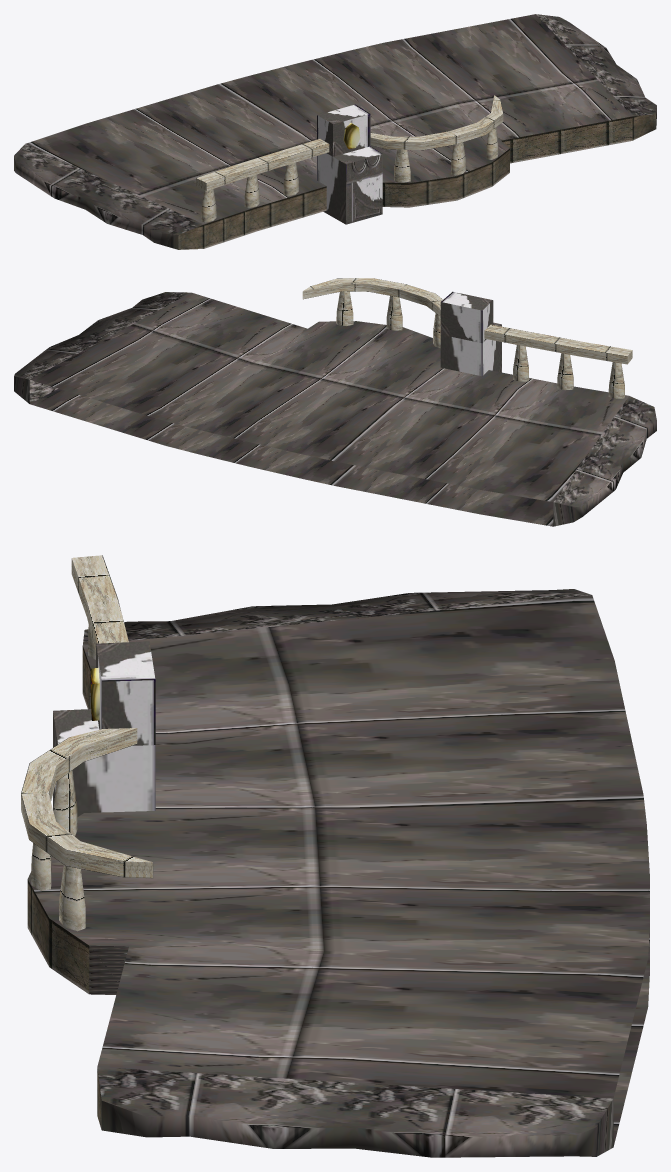
File: INST_SM_WALKWAYA.obj
3 renders of one model, top to bottom at view 1: azimuth 30°, elevation 25°; view 2: azimuth 150°, elevation 25°; view 3: azimuth 270°, elevation 25°, orthographic. The views are drawn at different scales.
Parts seen in each view (by area): view 1: Object162, Object194, Object193; view 2: Object162, Object194, Object193; view 3: Object162, Object193, Object194.
Boxes of the visible parts, bbox=[...] form: Object162: bbox=[25, 14, 632, 248]; Object194: bbox=[14, 144, 204, 249]; Object193: bbox=[536, 14, 656, 140]; Object162: bbox=[30, 278, 632, 526]; Object194: bbox=[553, 396, 656, 526]; Object193: bbox=[14, 292, 190, 403]; Object162: bbox=[21, 555, 649, 1145]; Object193: bbox=[97, 1067, 613, 1157]; Object194: bbox=[83, 589, 591, 645].
Bounding box in the file's own units: 1466 × 232 × 712.
